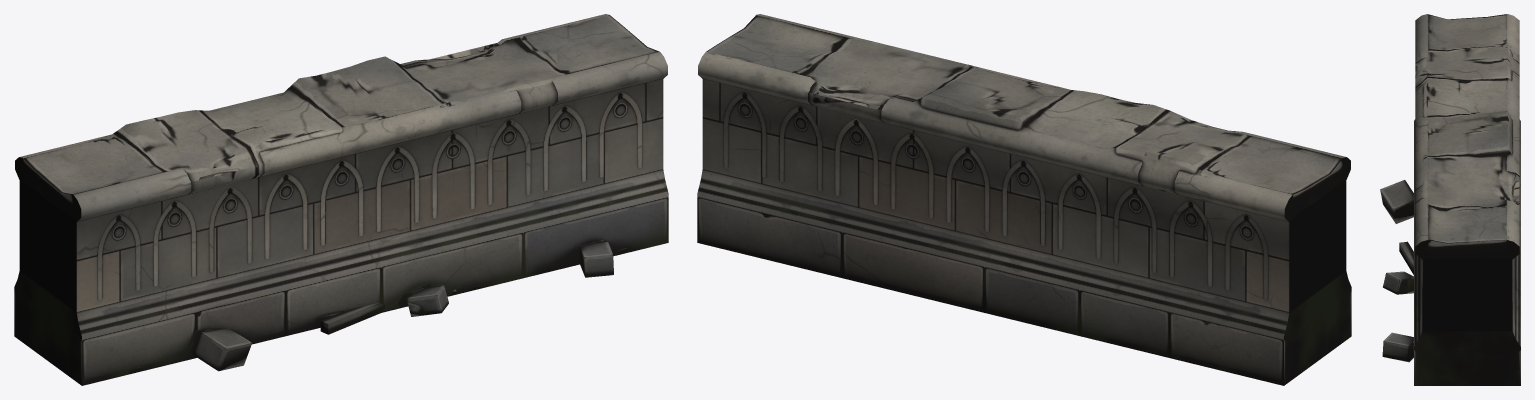
File: cathedral_wall_low.glb
The picture shows the model from 3 angles, left to right: view 1: azimuth 30°, elevation 25°; view 2: azimuth 150°, elevation 25°; view 3: azimuth 270°, elevation 25°; orthographic projection. The views are drawn at different scales.
Parts seen in each view (by area): view 1: cathedral_wall_low; view 2: cathedral_wall_low; view 3: cathedral_wall_low.
Boxes of the visible parts, bbox=[...] form: cathedral_wall_low: bbox=[14, 14, 668, 385]; cathedral_wall_low: bbox=[697, 14, 1351, 385]; cathedral_wall_low: bbox=[1380, 14, 1520, 385].
Bounding box in the file's own units: 4 × 1.34 × 1.05.
Materials: 1 (1 with a texture image).
